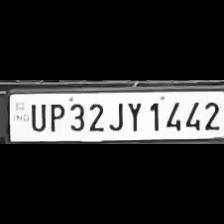1: (144, 100, 162, 132)
2: (84, 100, 106, 132), (200, 98, 220, 130)
3: (65, 100, 84, 132)
4: (180, 98, 200, 130), (162, 98, 180, 132)
J: (106, 98, 124, 132)
P: (46, 100, 64, 132)
U: (26, 100, 46, 132)
Y: (124, 100, 144, 132)
